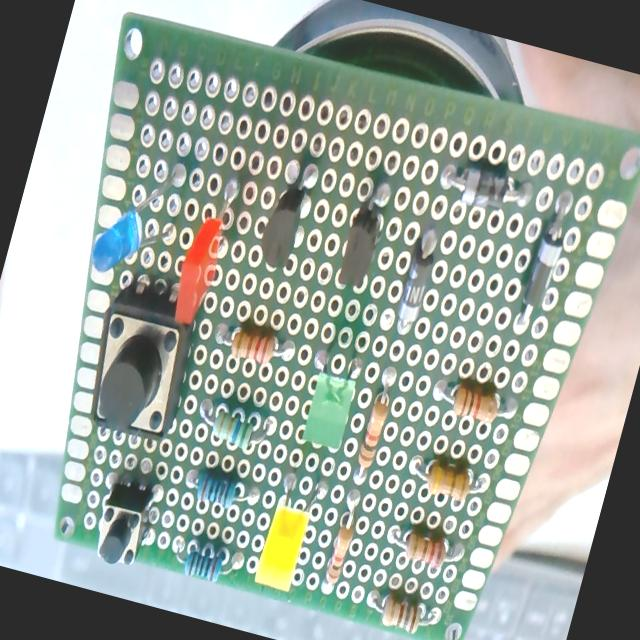diode: (512, 190, 574, 338), (434, 156, 532, 220), (392, 234, 439, 336)
led: (86, 151, 187, 284), (167, 170, 247, 329), (251, 466, 328, 594), (292, 338, 367, 453)
resistor: (350, 364, 400, 484), (192, 397, 276, 458), (428, 374, 516, 430), (404, 451, 488, 507), (322, 488, 366, 592), (211, 318, 295, 370), (386, 521, 466, 572), (363, 587, 441, 639), (180, 463, 258, 514), (170, 534, 243, 588)
switch: (75, 271, 209, 449), (88, 476, 156, 572)
transistor: (254, 154, 324, 274), (332, 175, 396, 294)
